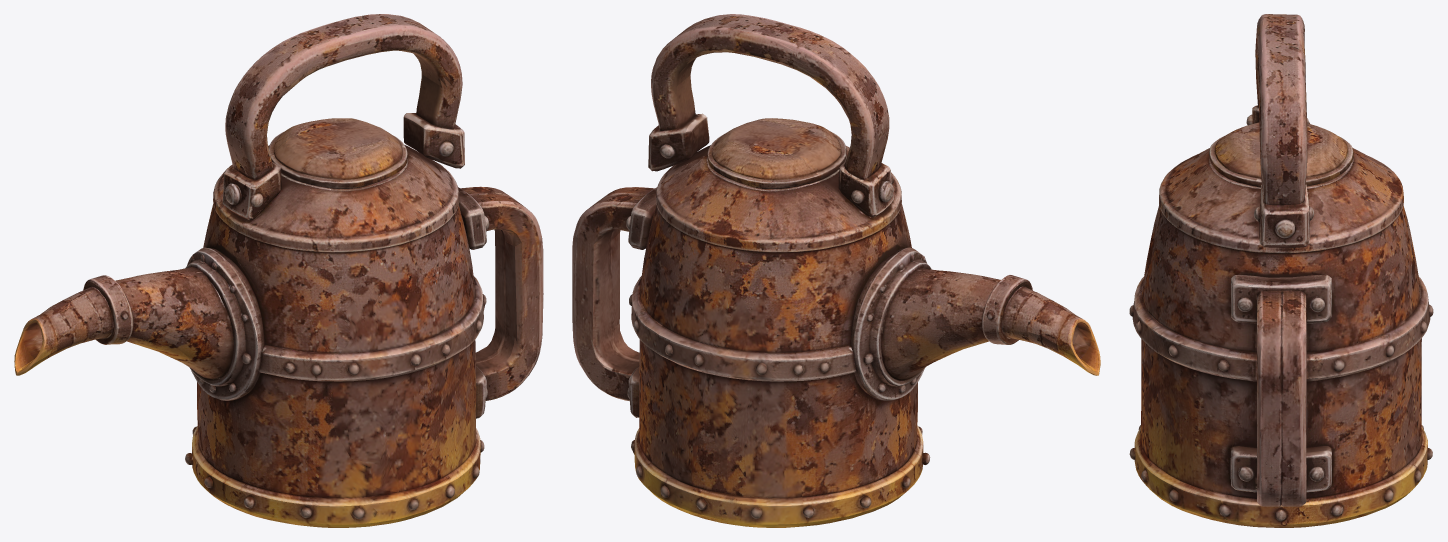
Rendered from oilcan.glb.
3 renders of one model, left to right at view 1: azimuth 30°, elevation 25°; view 2: azimuth 150°, elevation 25°; view 3: azimuth 270°, elevation 25°, orthographic.
Visible parts, largest first — view 1: Mesh_0; view 2: Mesh_0; view 3: Mesh_0.
Part boxes in pixels (x1,y1,x2,y2): Mesh_0: (14,14,543,527); Mesh_0: (572,14,1100,527); Mesh_0: (1129,14,1433,527).
Bounding box in the file's own units: 1.9 × 1.54 × 0.9651.
Materials: 1 (1 with a texture image).
